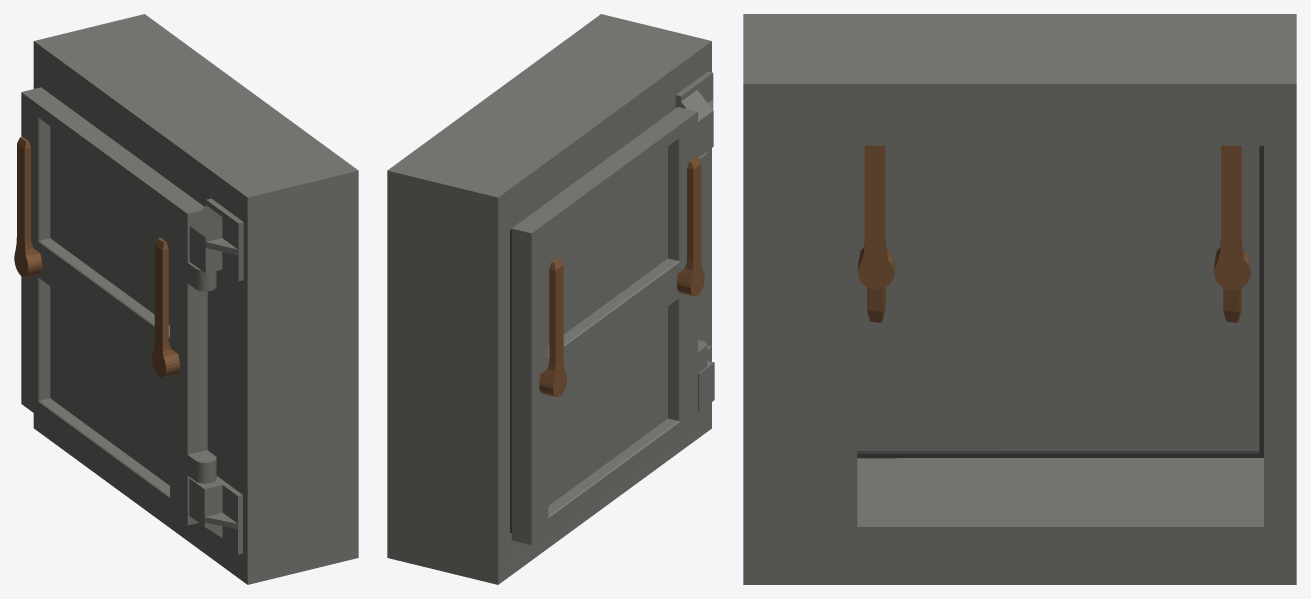
Rendered from HermoHatch - Copy.fbx.
3 renders of one model, left to right at view 1: azimuth 30°, elevation 25°; view 2: azimuth 150°, elevation 25°; view 3: azimuth 270°, elevation 25°, orthographic. The views are drawn at different scales.
Parts seen in each view (by area): view 1: Frame, Hatch, Hand2, Hand2.001; view 2: Frame, Hatch, Hand2, Hand2.001; view 3: Frame, Hatch, Hand2, Hand2.001.
Boxes of the visible parts, <box> form: Frame: <box>33,14,358,584</box>; Hatch: <box>21,87,216,525</box>; Hand2: <box>152,237,179,377</box>; Hand2.001: <box>14,137,42,276</box>; Frame: <box>387,14,714,584</box>; Hatch: <box>510,107,706,544</box>; Hand2: <box>677,157,704,296</box>; Hand2.001: <box>539,258,566,397</box>; Frame: <box>743,14,1296,584</box>; Hatch: <box>857,145,1263,458</box>; Hand2: <box>858,145,894,322</box>; Hand2.001: <box>1214,145,1250,322</box>.
Bounding box in the file's own units: 120 × 299 × 300.
